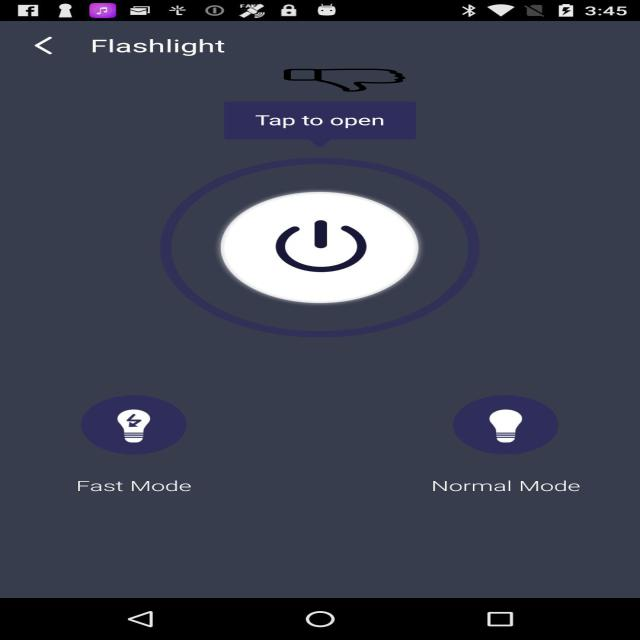obstruction: (282, 68, 407, 92)
